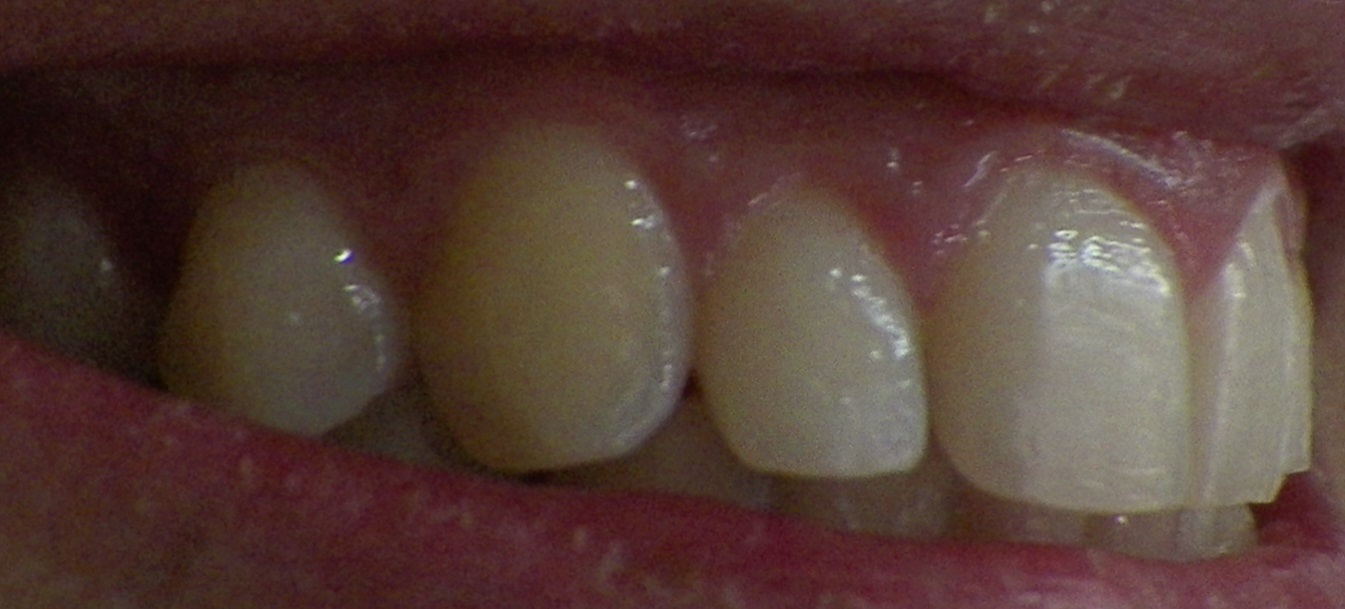boca: (20, 135, 1315, 555)
